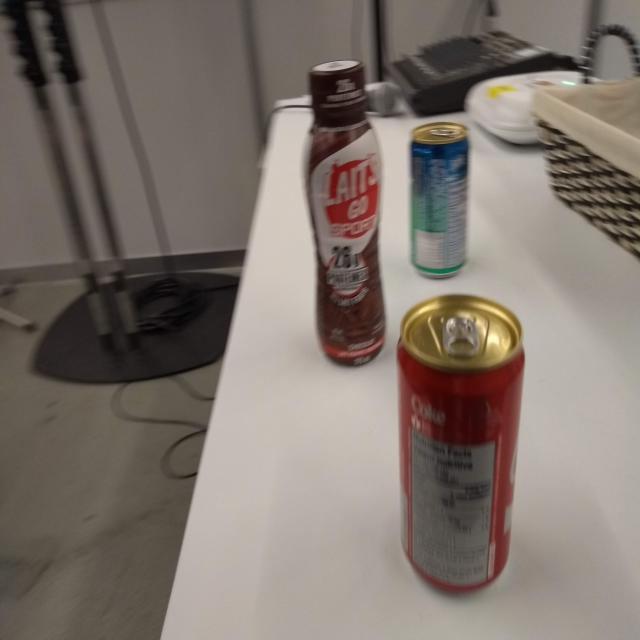chocolate_drink: (299, 54, 390, 372)
coke: (393, 288, 529, 603)
sprite: (404, 118, 472, 280)
